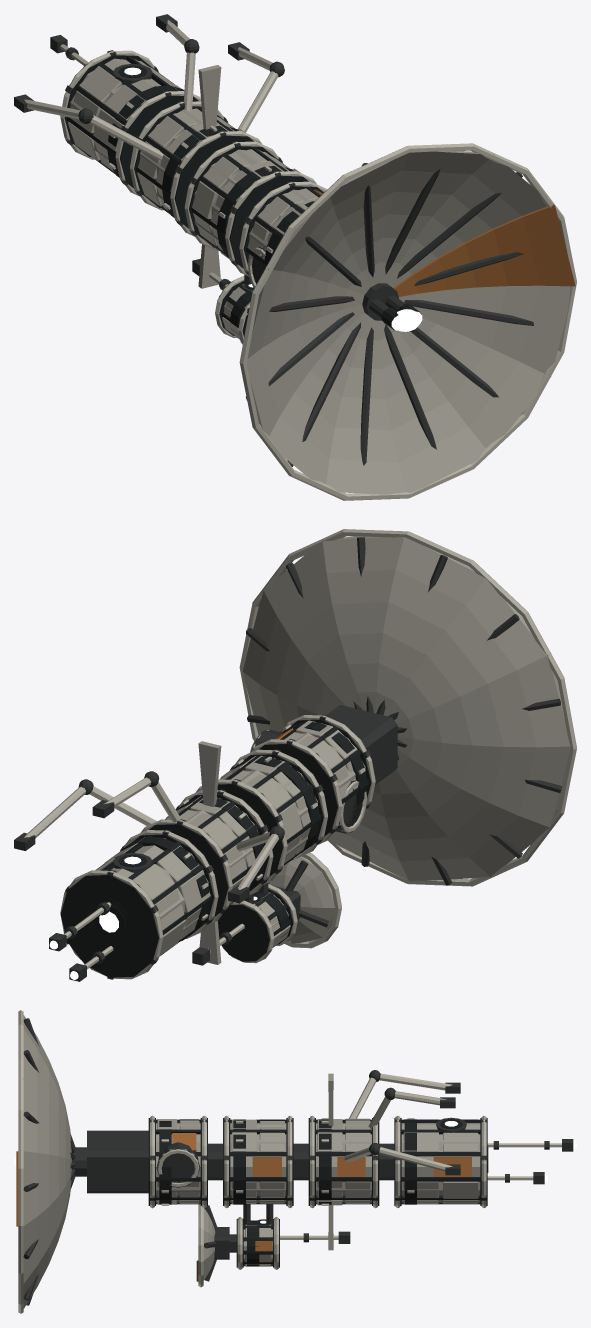
The picture shows the model from 3 angles, top to bottom: view 1: azimuth 30°, elevation 25°; view 2: azimuth 150°, elevation 25°; view 3: azimuth 270°, elevation 25°; orthographic projection. The views are drawn at different scales.
Parts seen in each view (by area): view 1: RIMWARD_HULL; view 2: RIMWARD_HULL, RIMWARD_EMISSIVE; view 3: RIMWARD_HULL.
Boxes of the visible parts, x1,y1,x2,y2 form: RIMWARD_HULL: (14, 14, 576, 500); RIMWARD_HULL: (14, 529, 576, 981); RIMWARD_EMISSIVE: (49, 856, 257, 979); RIMWARD_HULL: (16, 1010, 573, 1313).
Size of the model in its own units: 5.86 by 5.86 by 10.85.
